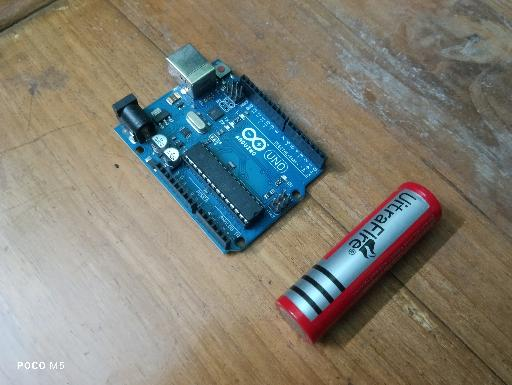Arduino: (112, 42, 328, 256)
Battery: (274, 181, 442, 346)
